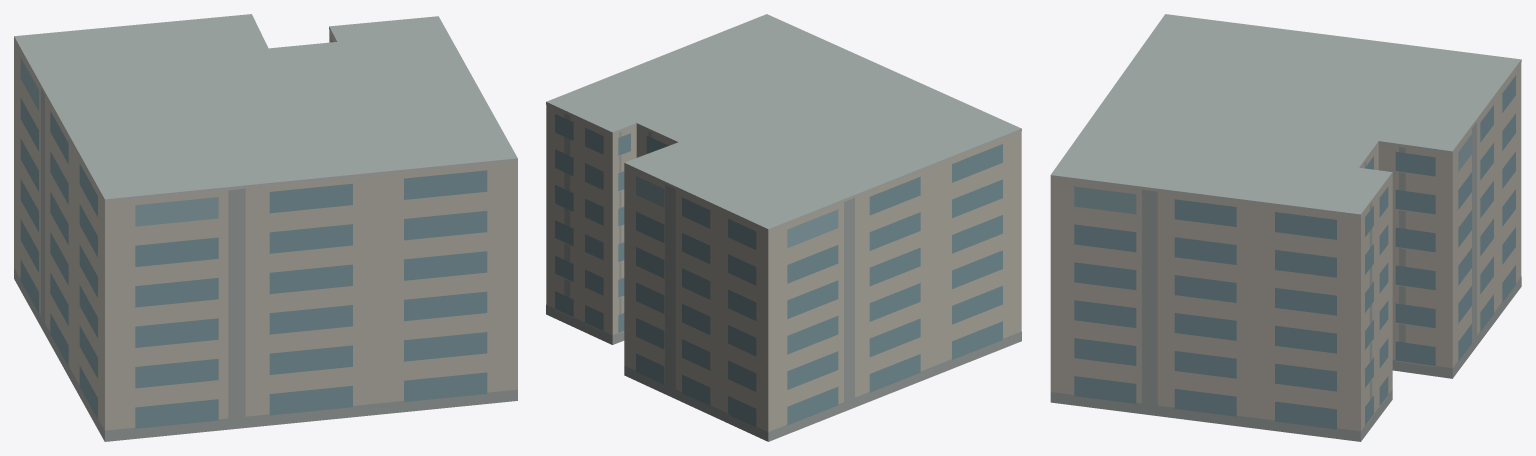
The model's file is survey-upis-32856495.glb.
3 views of the same model, side by side, from view 1: azimuth 30°, elevation 25°; view 2: azimuth 150°, elevation 25°; view 3: azimuth 270°, elevation 25° (orthographic). The views are drawn at different scales.
Parts seen in each view (by area): view 1: survey-upis-32856495.tmp; view 2: survey-upis-32856495.tmp; view 3: survey-upis-32856495.tmp.
Part boxes in pixels (x1=…): survey-upis-32856495.tmp: x1=14, y1=14, x2=517, y2=441; survey-upis-32856495.tmp: x1=546, y1=14, x2=1021, y2=441; survey-upis-32856495.tmp: x1=1050, y1=14, x2=1521, y2=441.
Bounding box in the file's own units: 34.41 × 18.2 × 34.16.
